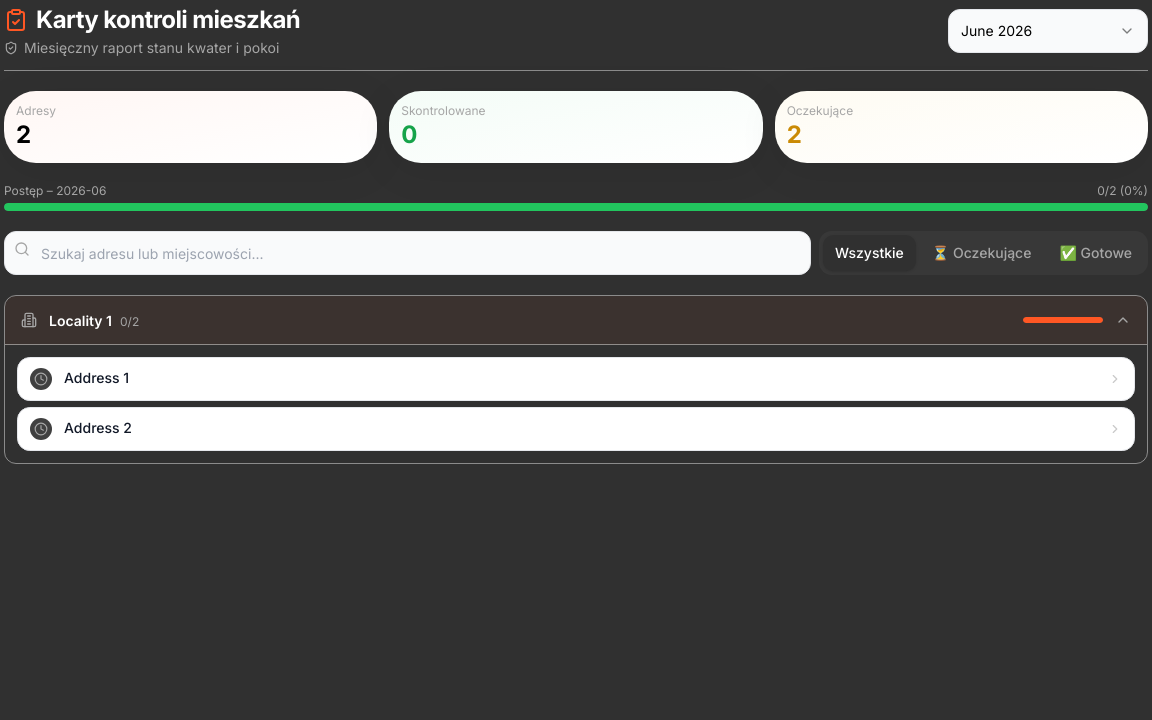
Test: ControlCardDialog - Meter Photo Upload › camera input has capture="environment" attribute, and gallery does not
The image size is (1152, 720).
Click the button "Address 1": click(97, 378) [17,357,1135,401]
(page scrolled)
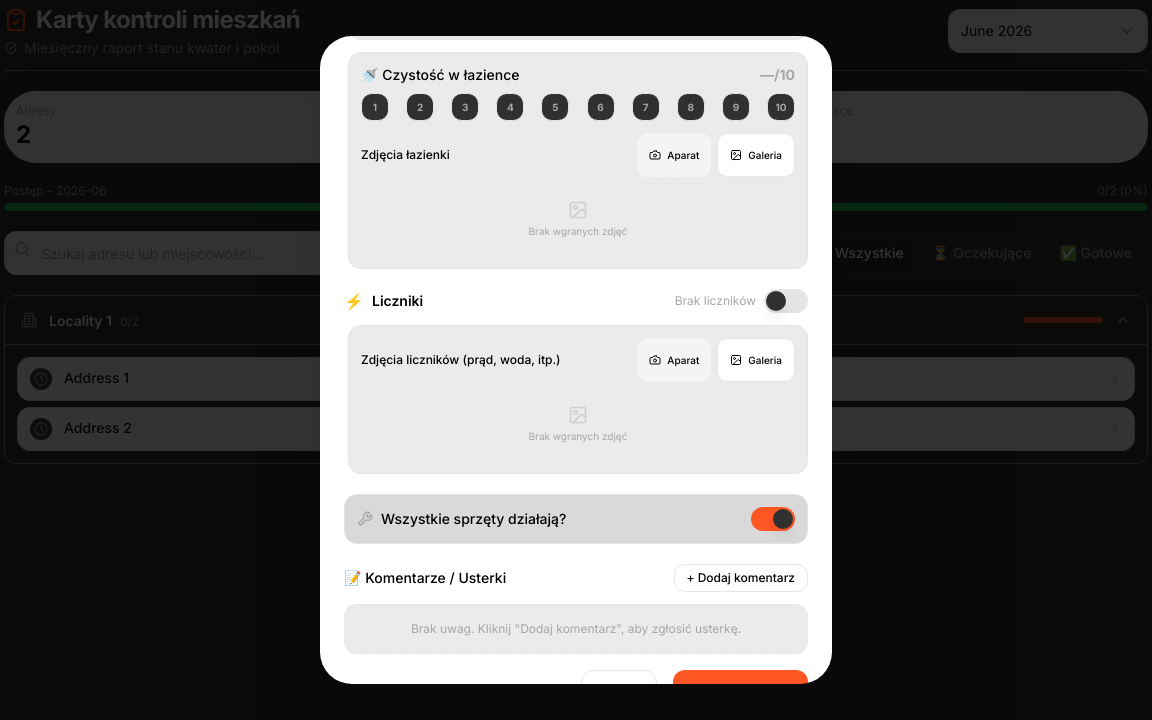
Now the text "Zdjęcia liczników (prąd, woda, itp.)" is shown, box [361,352,560,368]
Now the element showing "Aparat Galeria" next to "Zdjęcia liczników (prąd, woda, itp.)" is shown, box [637,338,795,382]
